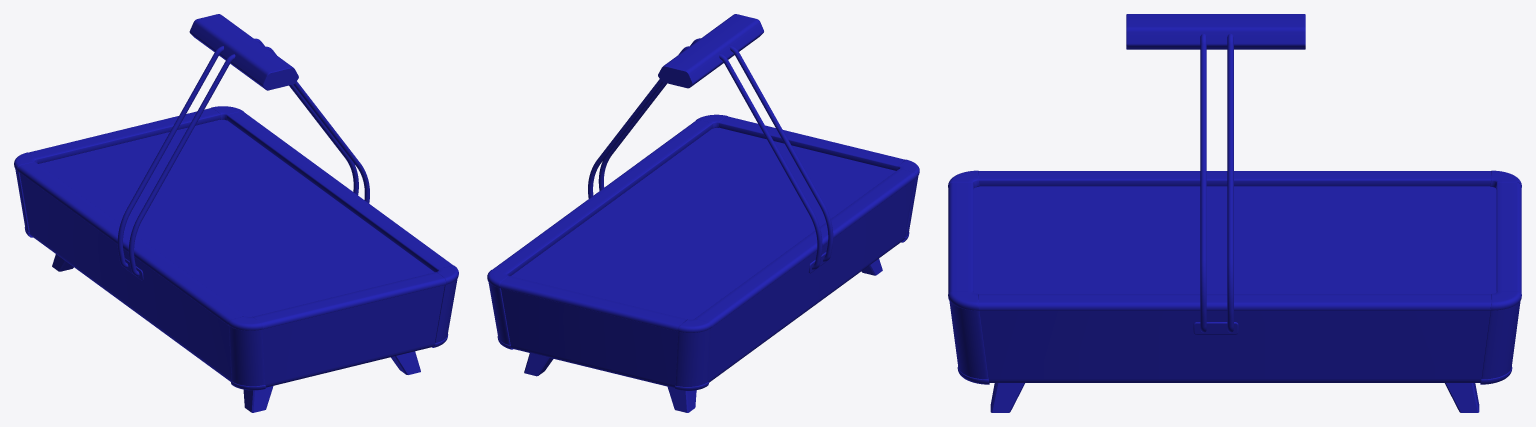
Rendered from hockey.obj.
The picture shows the model from 3 angles, left to right: view 1: azimuth 30°, elevation 25°; view 2: azimuth 150°, elevation 25°; view 3: azimuth 270°, elevation 25°; orthographic projection. The views are drawn at different scales.
Visible parts, largest first — view 1: aerohokey; view 2: aerohokey; view 3: aerohokey.
Boxes of the visible parts, left/top/right/bottom form: aerohokey: left=14, top=14, right=458, bottom=412; aerohokey: left=487, top=14, right=919, bottom=412; aerohokey: left=948, top=14, right=1521, bottom=412.
Size of the model in its own units: 1313 by 1468 by 2231.
